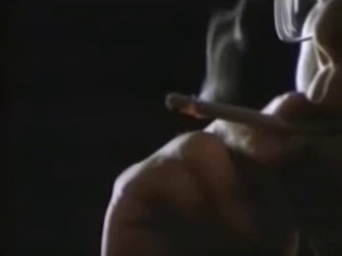smoke: (166, 91, 292, 133)
